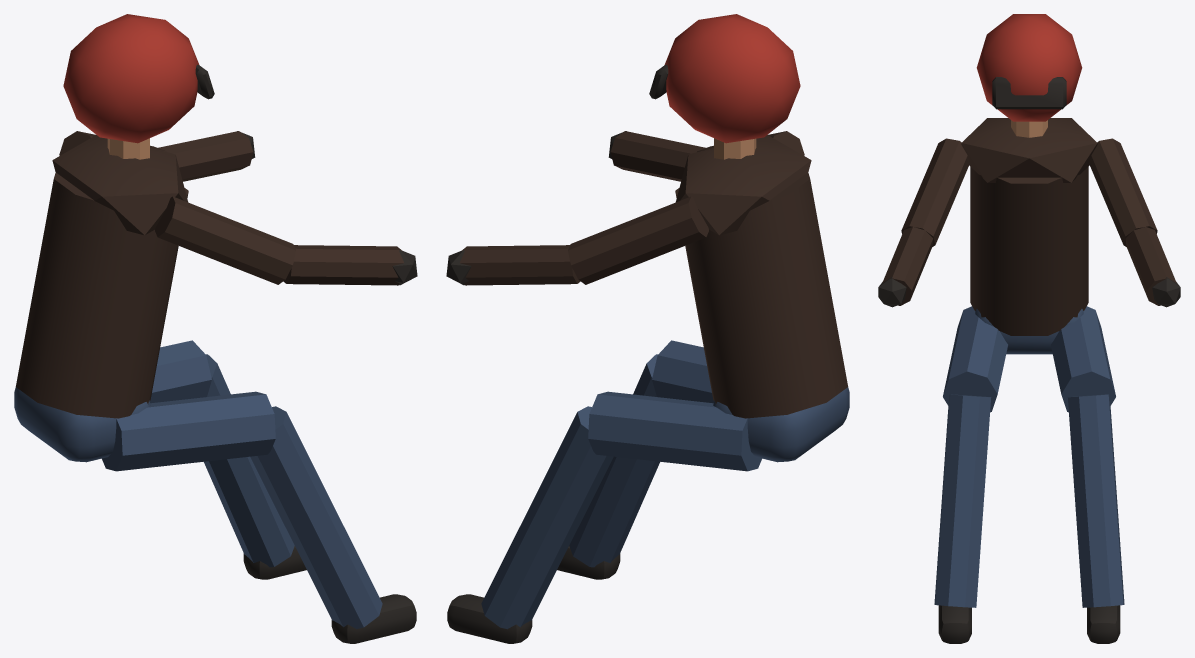
The model's file is rider_cruiser.glb.
3 renders of one model, left to right at view 1: azimuth 30°, elevation 25°; view 2: azimuth 150°, elevation 25°; view 3: azimuth 270°, elevation 25°, orthographic. The views are drawn at different scales.
Visible parts, largest first — view 1: Rider_Cruiser; view 2: Rider_Cruiser; view 3: Rider_Cruiser.
Boxes of the visible parts, x1,y1,x2,y2 form: Rider_Cruiser: [14, 14, 417, 643]; Rider_Cruiser: [446, 14, 849, 643]; Rider_Cruiser: [878, 14, 1180, 643].
Bounding box in the file's own units: 0.8992 × 1.59 × 0.8166.
